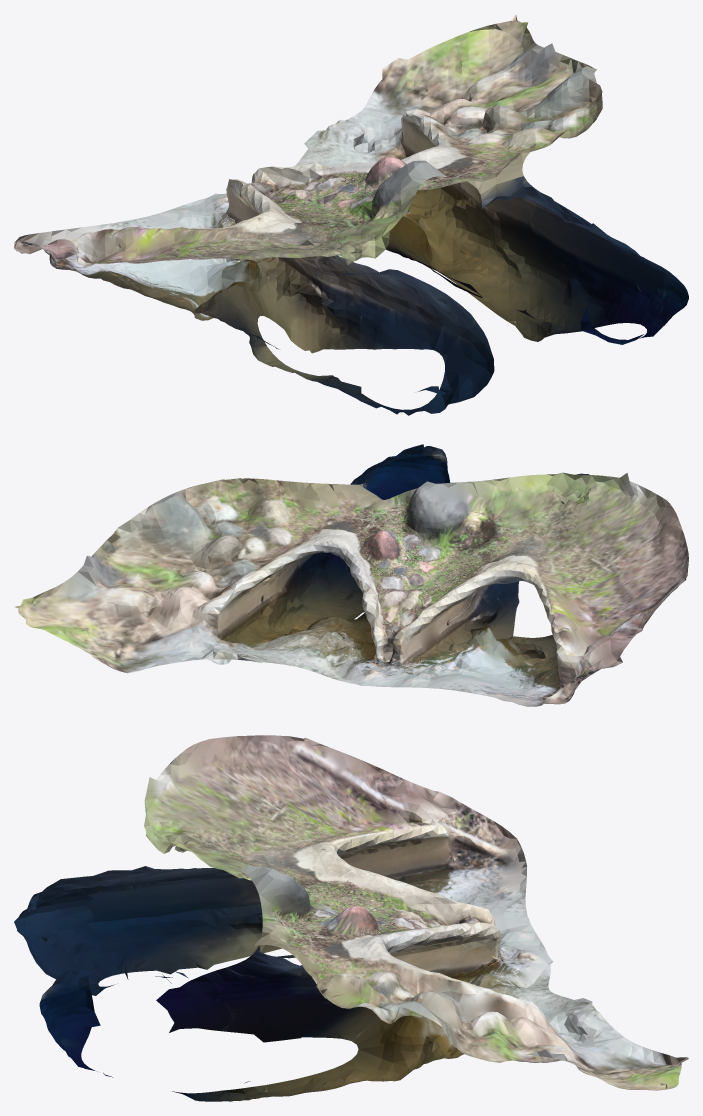
The model's file is 5_2_2025-double.glb.
3 renders of one model, top to bottom at view 1: azimuth 30°, elevation 25°; view 2: azimuth 150°, elevation 25°; view 3: azimuth 270°, elevation 25°, orthographic. The views are drawn at different scales.
Bounding box in the file's own units: 7.68 × 2.32 × 7.36.
Materials: 1 (1 with a texture image).
